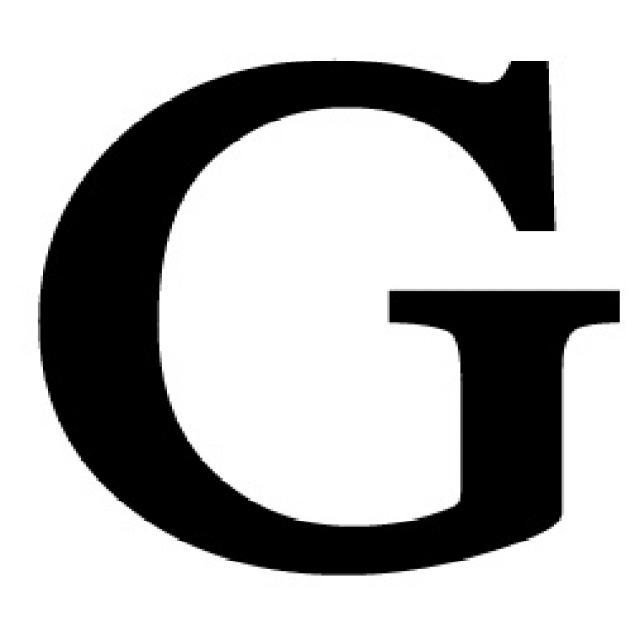G: (28, 19, 632, 616)
